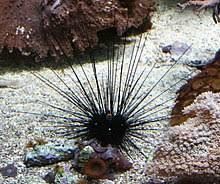urchin: (15, 30, 194, 151)
